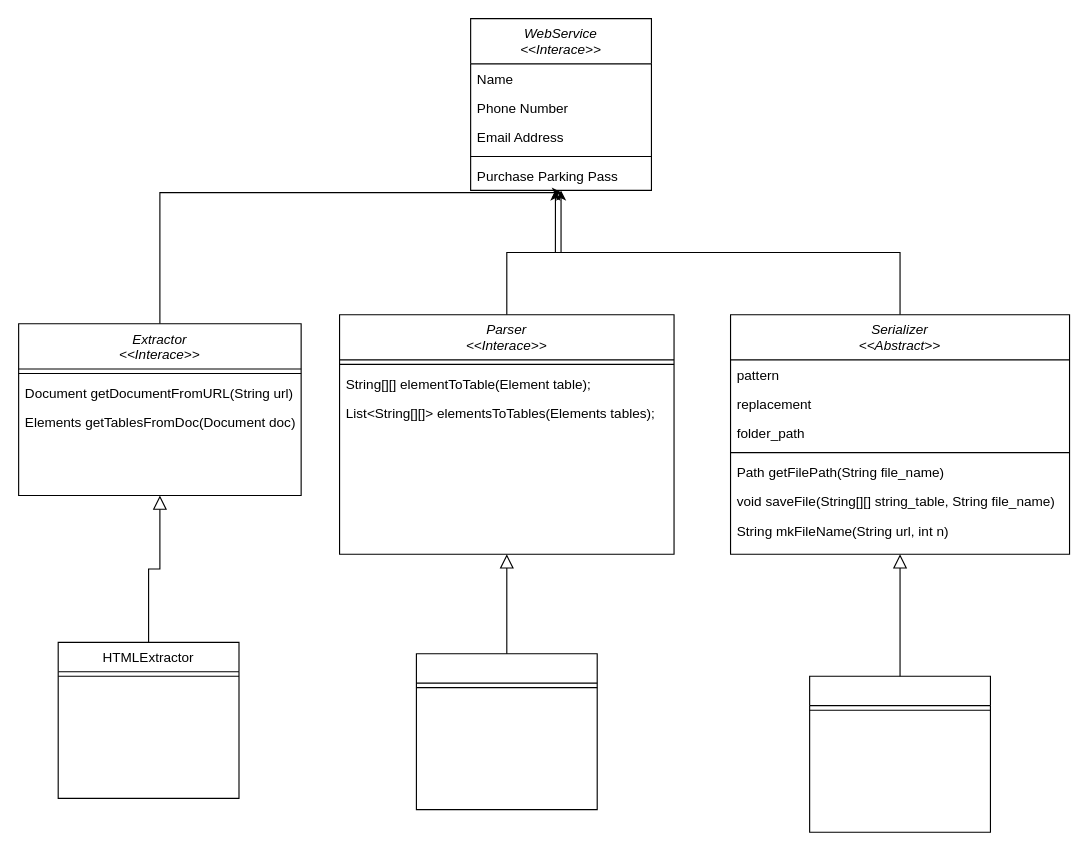
The diagram is 1088 pixels wide and 851 high, and some of its shapes have lost their labels. The shapes that lost their labels are listed below. From the top down, each one's centre as x and y in pixels, then its label:
At point 506,731: "HTMLParser".
At point 899,753: "listToCSV".
